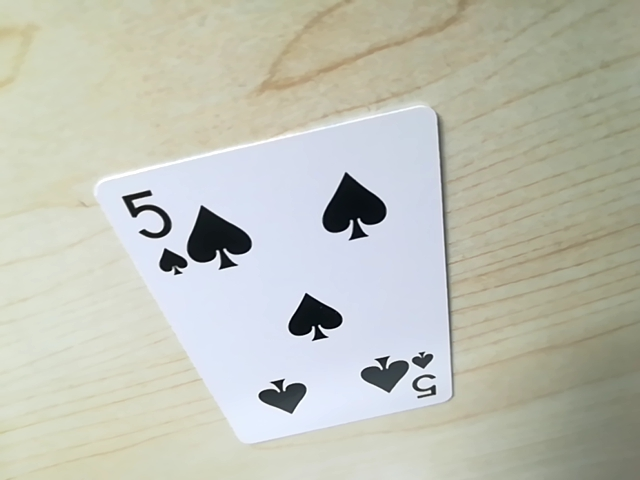ht 5: (118, 184, 188, 283), (406, 353, 445, 408)
